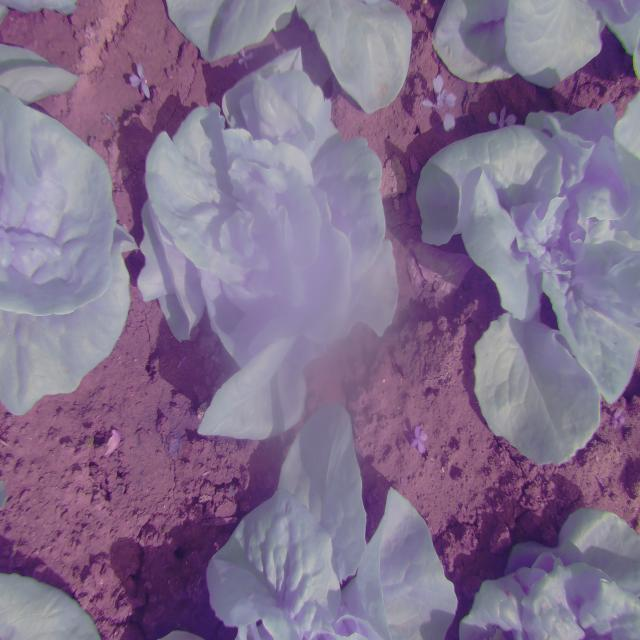vege: (138, 60, 398, 376)
